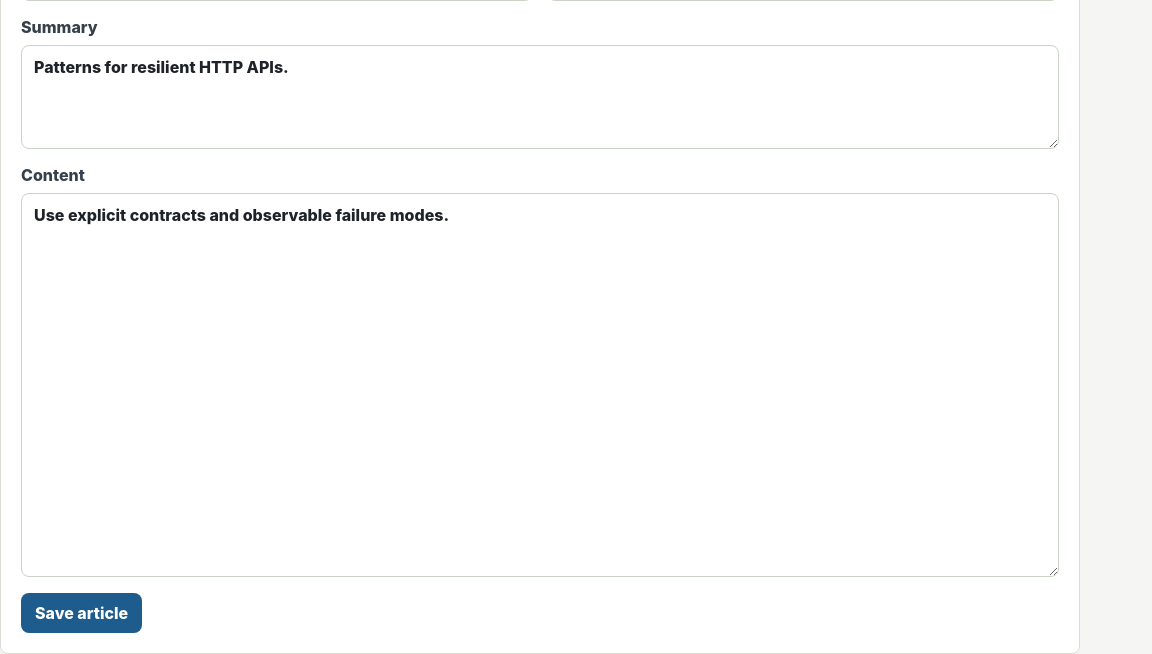
it: article CRUD › loads and updates an existing article
(page scrolled)
Replace the text in the text box labelled "Content" with "Updated article content." at coordinates (540, 385), box x1=21 y1=193 x2=1059 y2=577
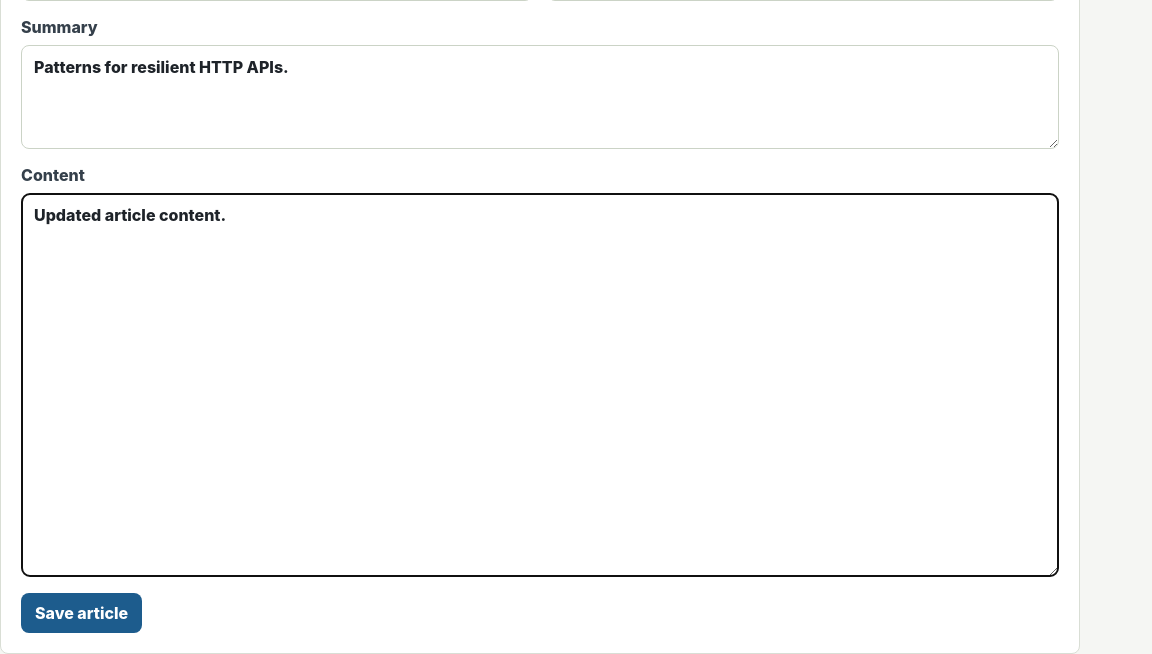
Click the button "Save article".
click(82, 613)  # box x1=21 y1=593 x2=142 y2=633
(page scrolled)
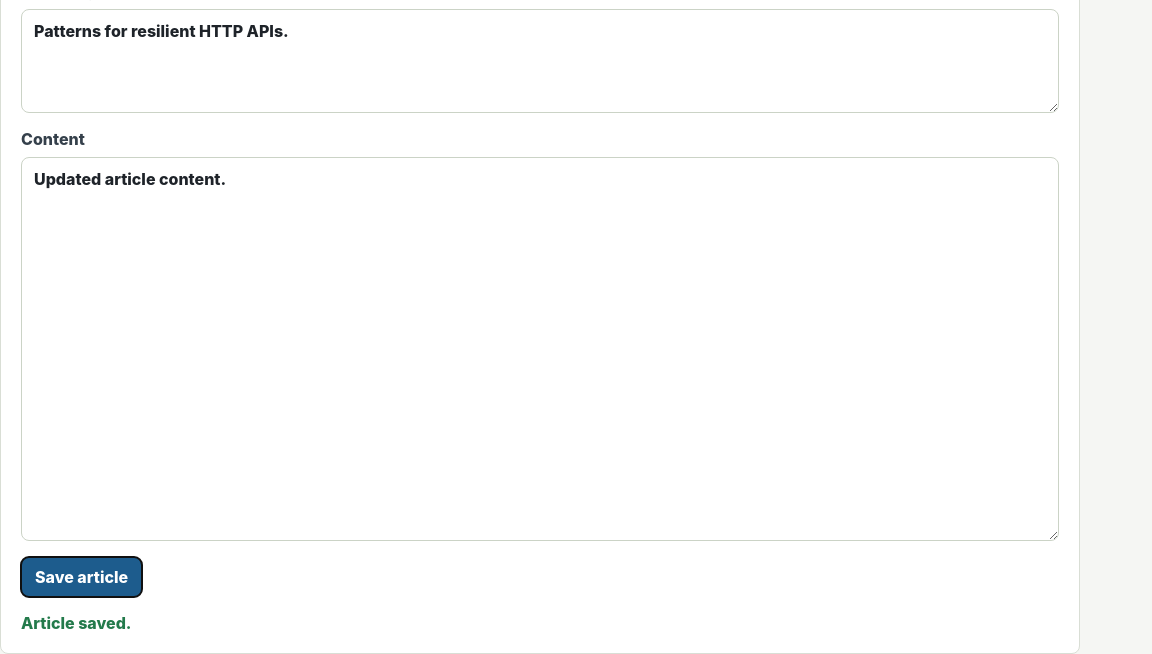
expect the message reads "Article saved.": met, box x1=21 y1=613 x2=132 y2=633
